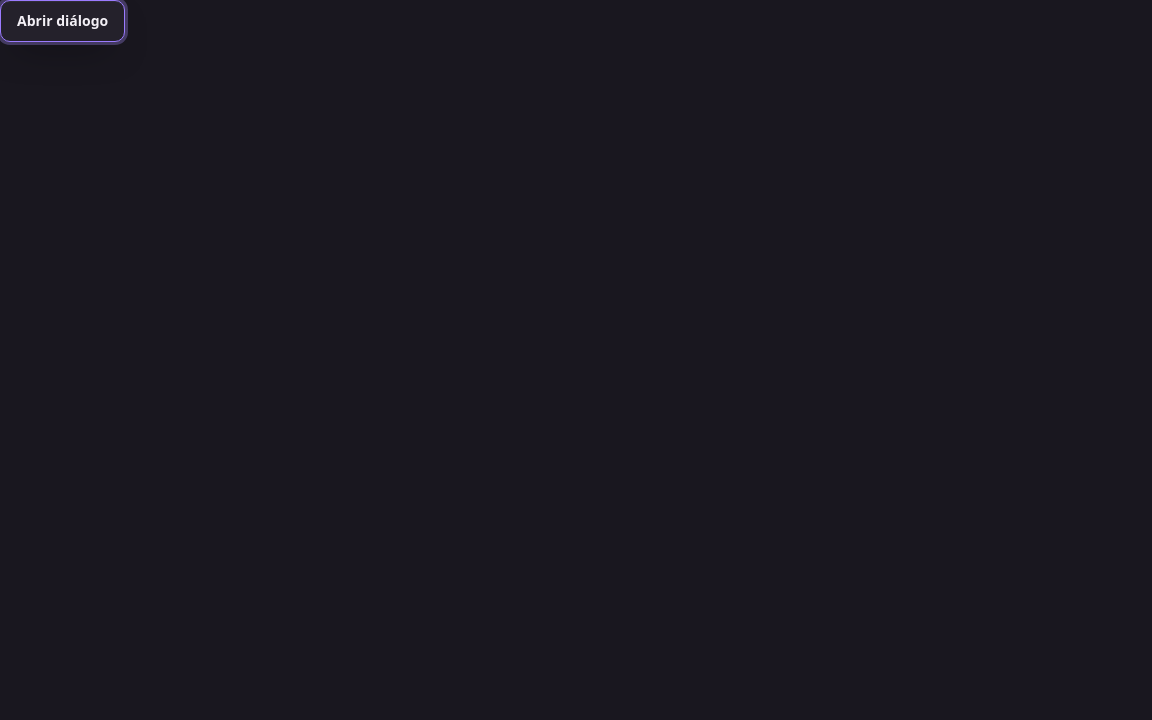
Scenario: Dialog component contract › opens from DialogTrigger, moves focus inside, closes on Escape, and restores focus to trigger
The image size is (1152, 720).
Click the button "Abrir diálogo" at (63, 21), box left=0, top=0, right=125, bottom=42
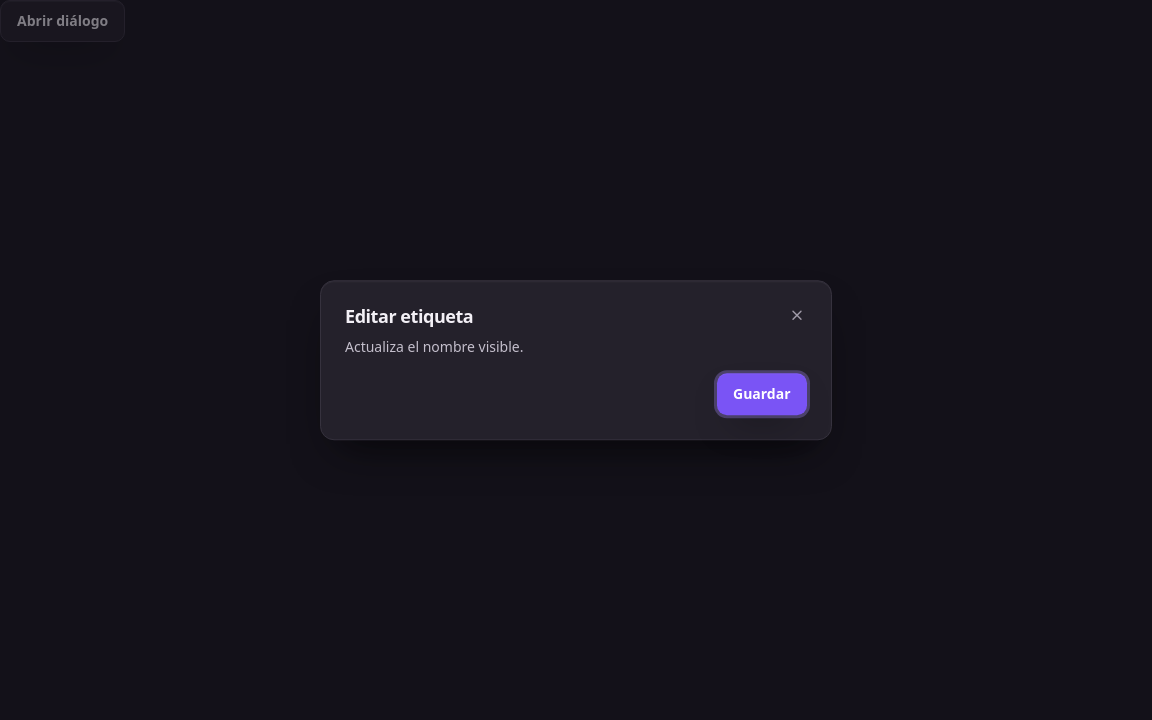
Press Escape in the dialog "Editar etiqueta", box left=320, top=280, right=832, bottom=440
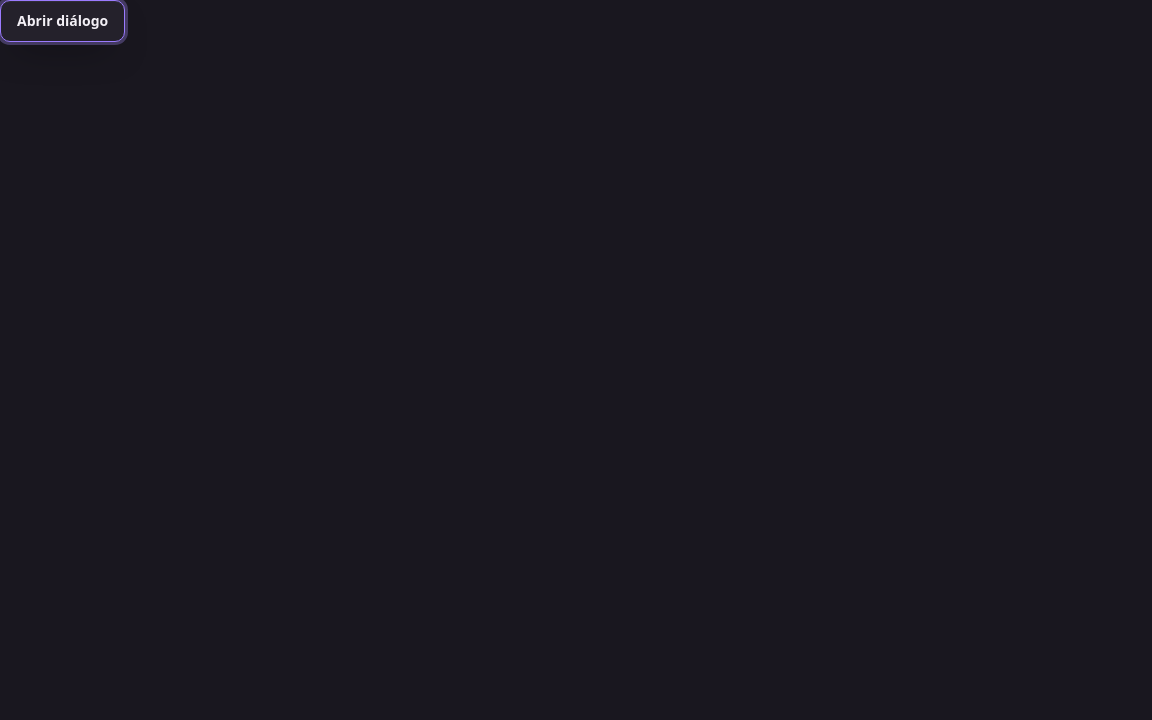
Expected: the dialog is gone
